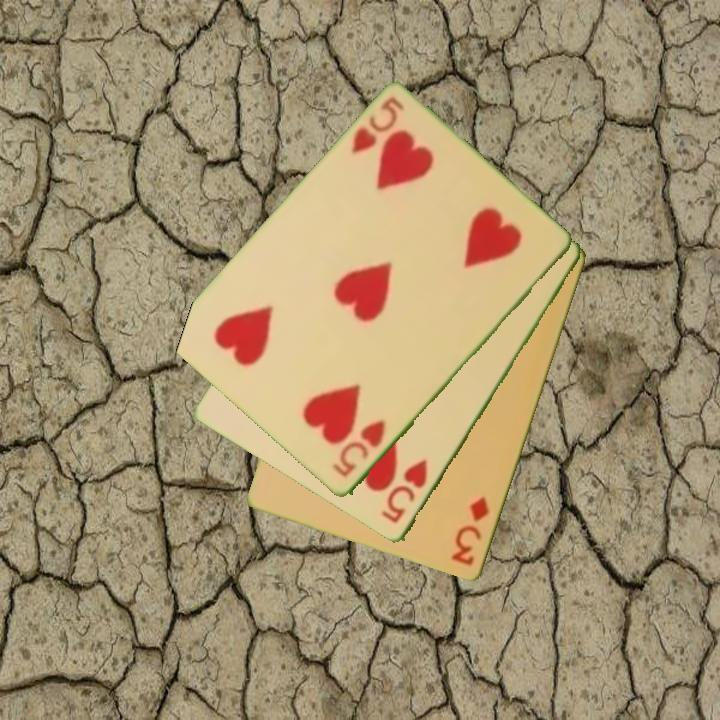3d: (448, 493, 493, 569)
5h: (328, 417, 389, 481), (347, 93, 408, 157), (378, 456, 431, 527)
